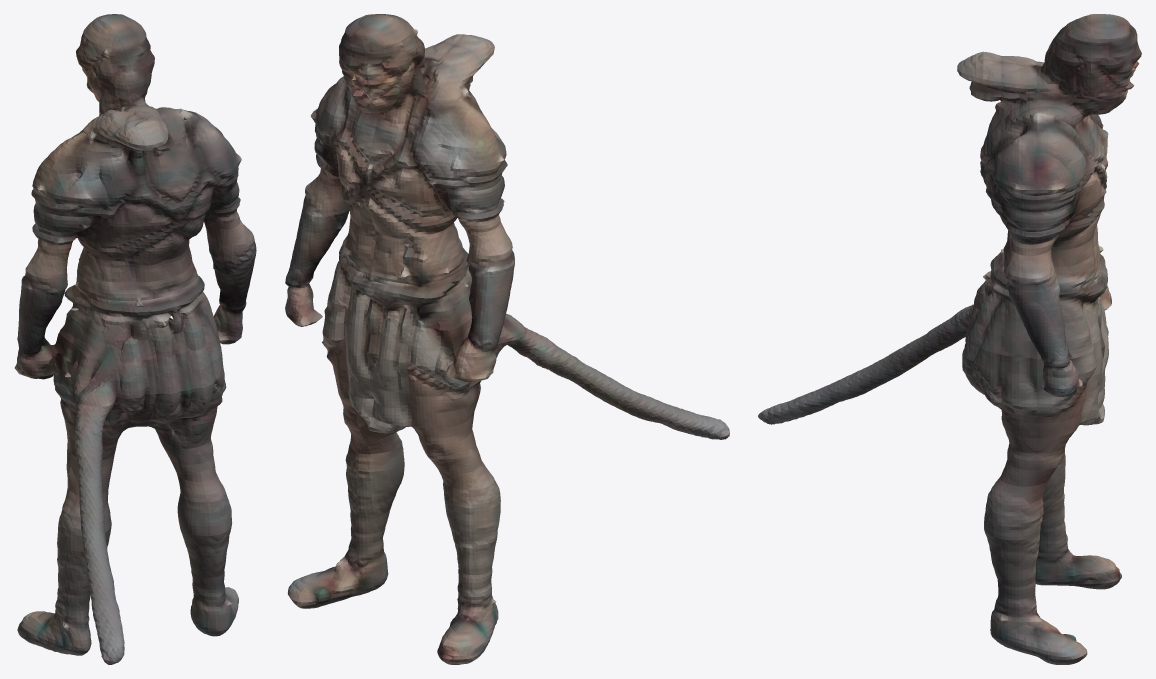
File: boy_1.glb
3 renders of one model, left to right at view 1: azimuth 30°, elevation 25°; view 2: azimuth 150°, elevation 25°; view 3: azimuth 270°, elevation 25°, orthographic. The views are drawn at different scales.
Parts seen in each view (by area): view 1: world; view 2: world; view 3: world.
Boxes of the visible parts, bbox=[...] form: world: bbox=[14, 14, 256, 664]; world: bbox=[285, 14, 729, 664]; world: bbox=[758, 14, 1141, 664].
Size of the model in its own units: 0.4995 by 1.02 by 0.5828.
